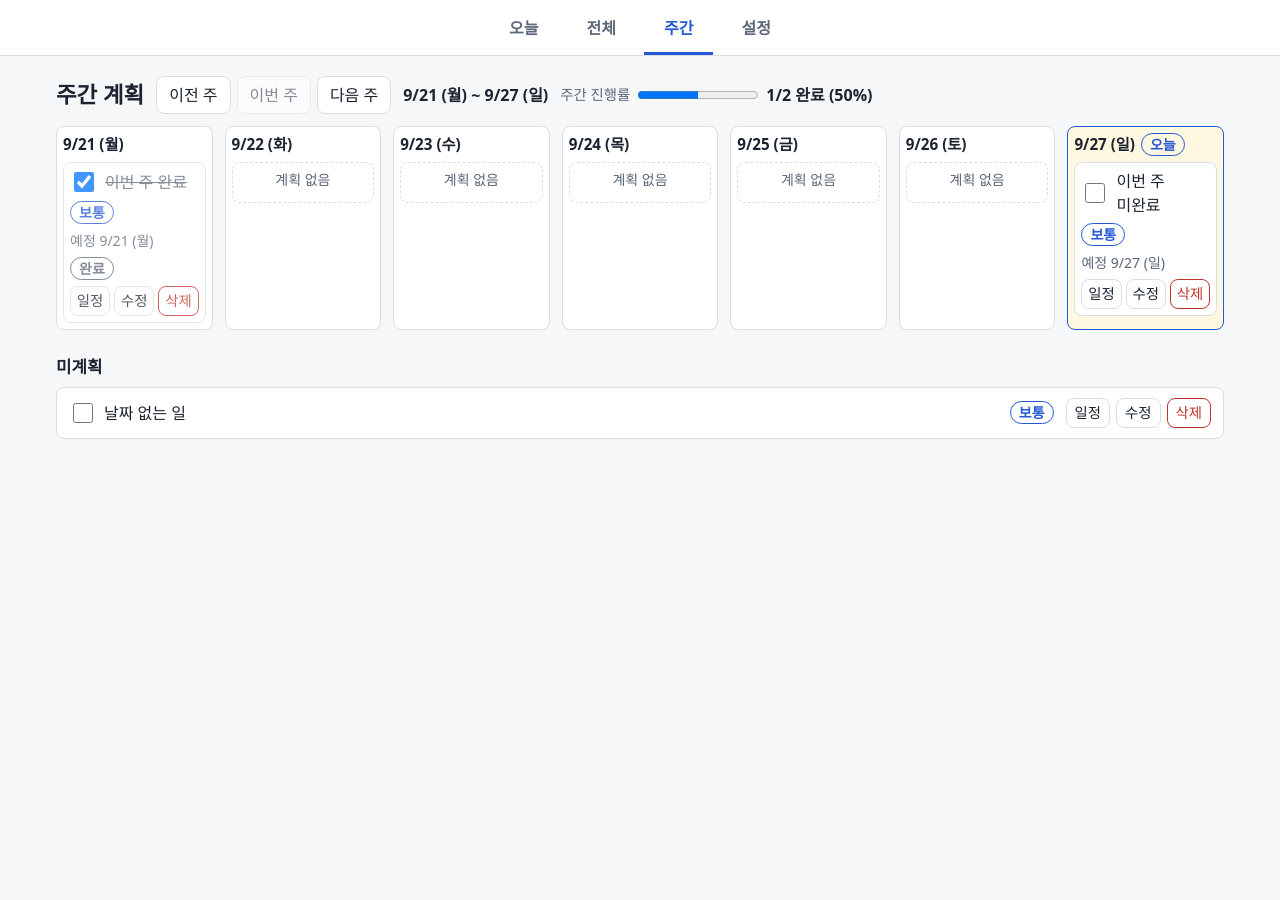
주간 화면 (AC9, AC28, AC29) › 주간 진행률은 표시 중인 주만 세고, 삭제하면 다시 계산된다. 미계획 패널에 날짜 없는 작업이 나온다
Check: the text with test id "progress-주간 진행률" reads "1/2 완료 (50%)", box [766, 84, 873, 106]
Check: the text "날짜 없는 일" is shown, box [104, 401, 186, 425]
Click the button with aria-label "이번 주 완료 삭제" at (178, 301), box [158, 286, 199, 316]
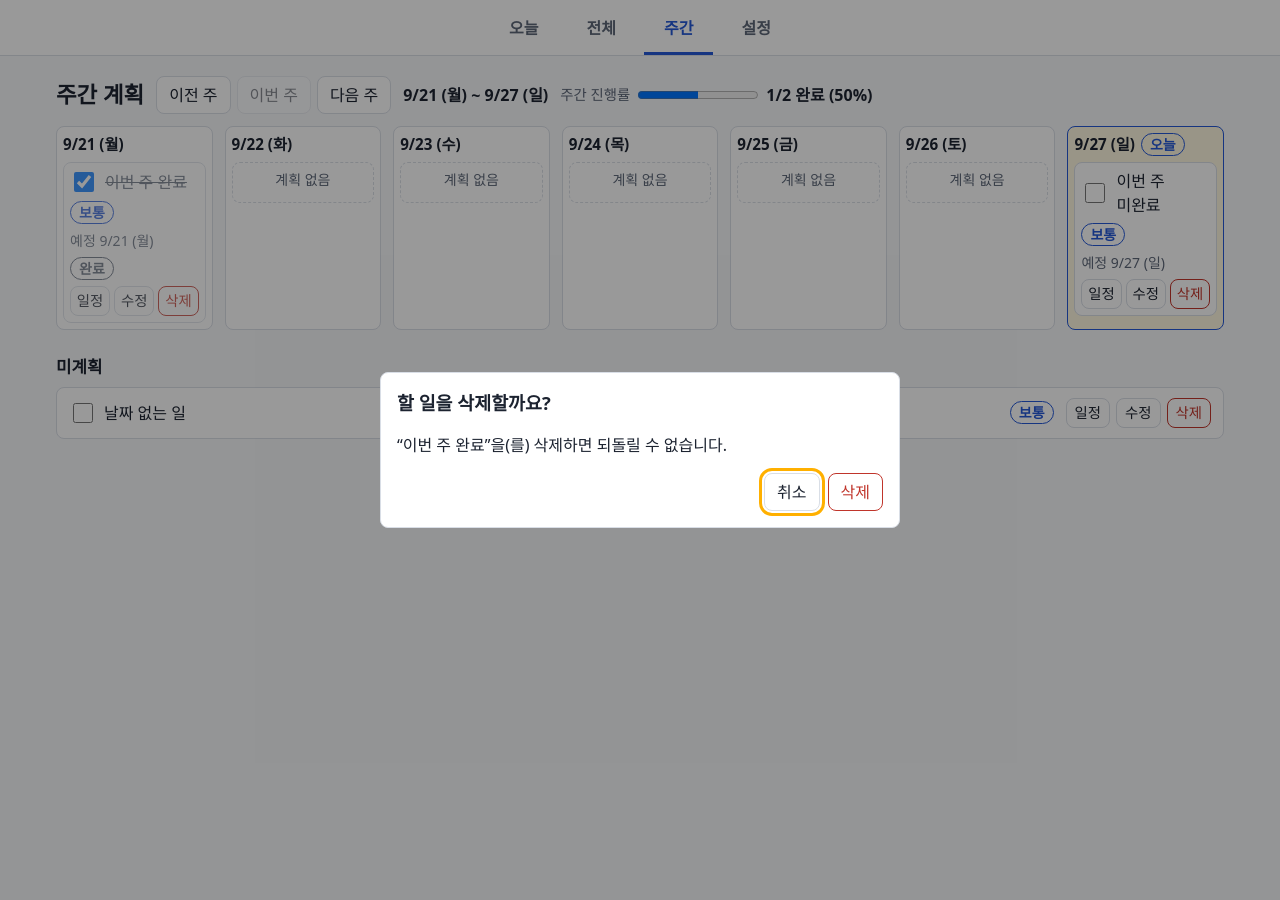
Click the button "삭제" at (855, 492), box [828, 473, 883, 511]
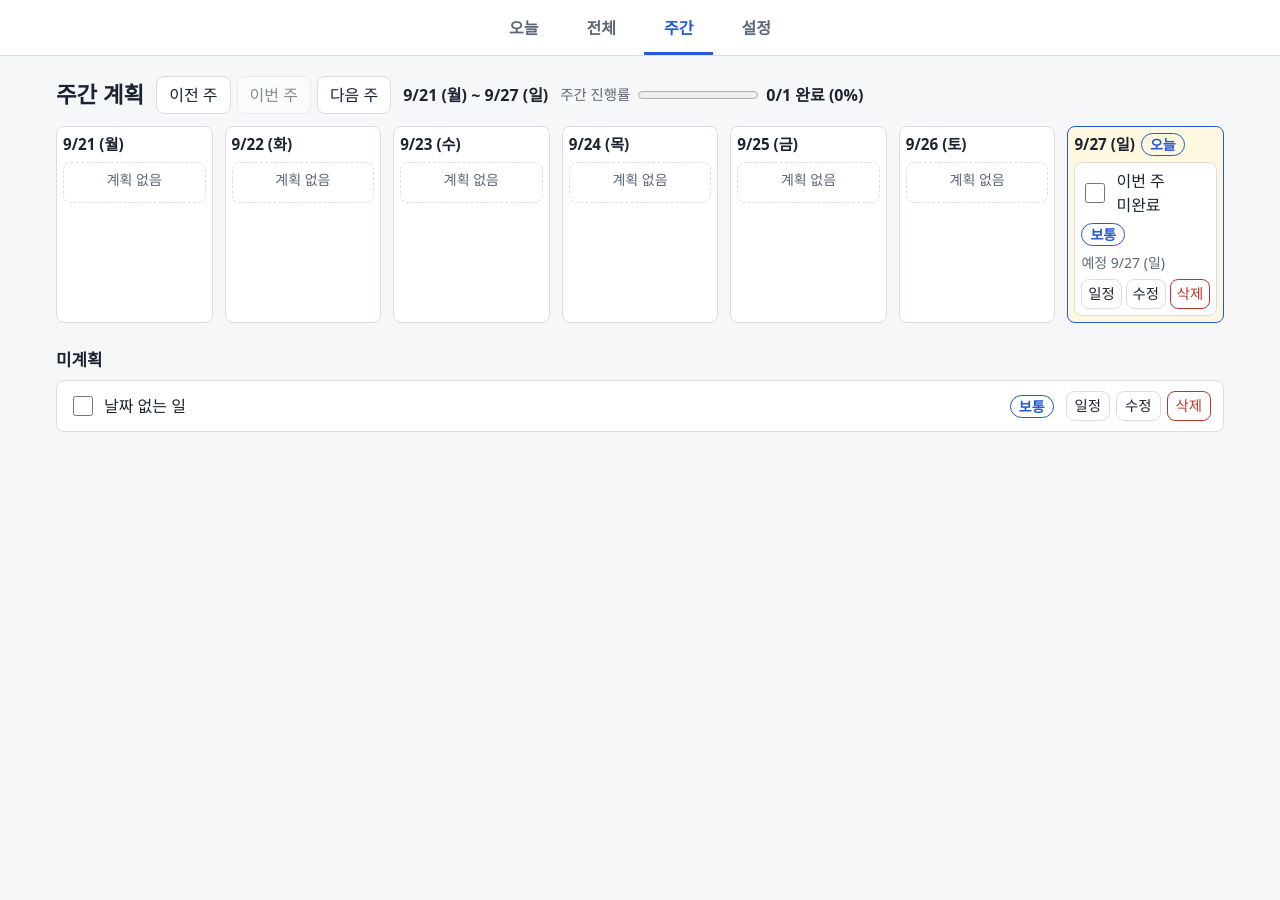
Check: the text with test id "progress-주간 진행률" reads "0/1 완료 (0%)", box [766, 84, 863, 106]
